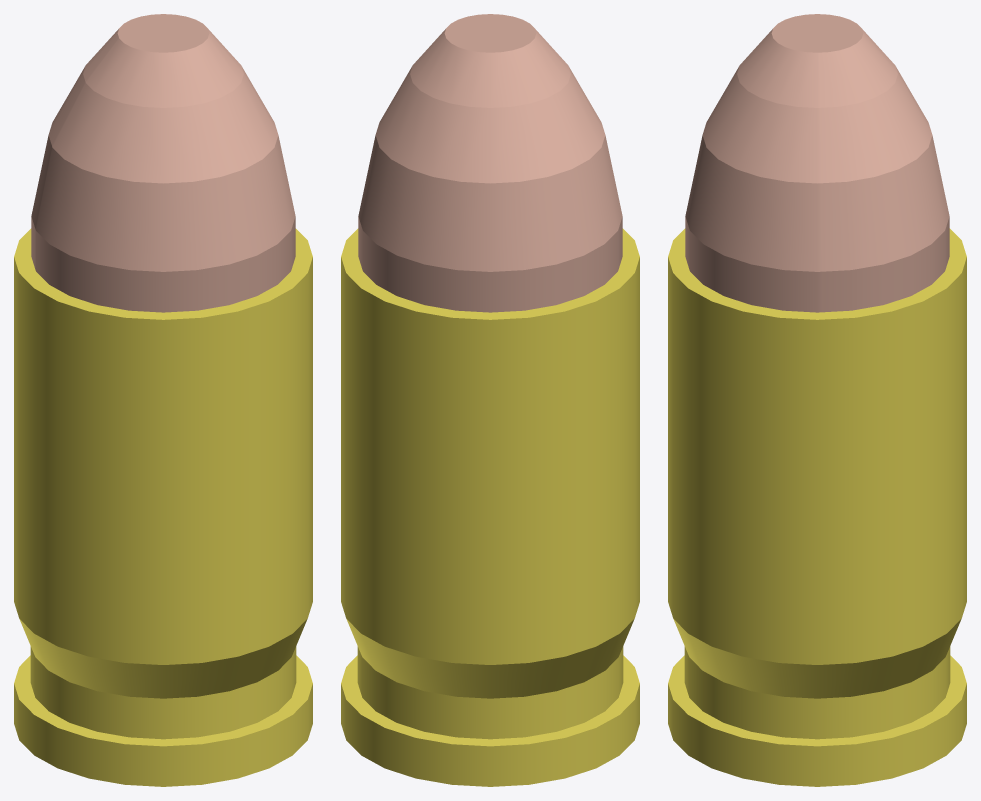
The model's file is ammo_uzi.glb.
3 renders of one model, left to right at view 1: azimuth 30°, elevation 25°; view 2: azimuth 150°, elevation 25°; view 3: azimuth 270°, elevation 25°, orthographic.
Parts seen in each view (by area): view 1: Mesh1 Group2 Group1 Model, Mesh2 Group3 Group1 Model; view 2: Mesh1 Group2 Group1 Model, Mesh2 Group3 Group1 Model; view 3: Mesh1 Group2 Group1 Model, Mesh2 Group3 Group1 Model.
Part boxes in pixels (bbox=[...]): Mesh1 Group2 Group1 Model: bbox=[14, 228, 312, 786]; Mesh2 Group3 Group1 Model: bbox=[31, 14, 295, 312]; Mesh1 Group2 Group1 Model: bbox=[341, 228, 639, 786]; Mesh2 Group3 Group1 Model: bbox=[358, 14, 622, 312]; Mesh1 Group2 Group1 Model: bbox=[668, 228, 966, 786]; Mesh2 Group3 Group1 Model: bbox=[685, 14, 949, 312].
Bounding box in the file's own units: 0.004 × 0.0102 × 0.004.
